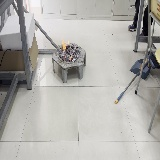fire: (62, 40, 66, 50), (69, 56, 72, 61), (68, 41, 70, 46)
